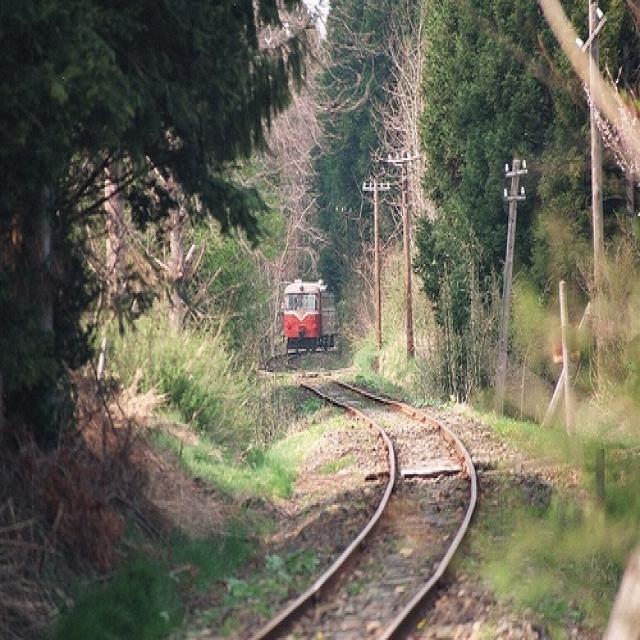train: (282, 274, 339, 351)
